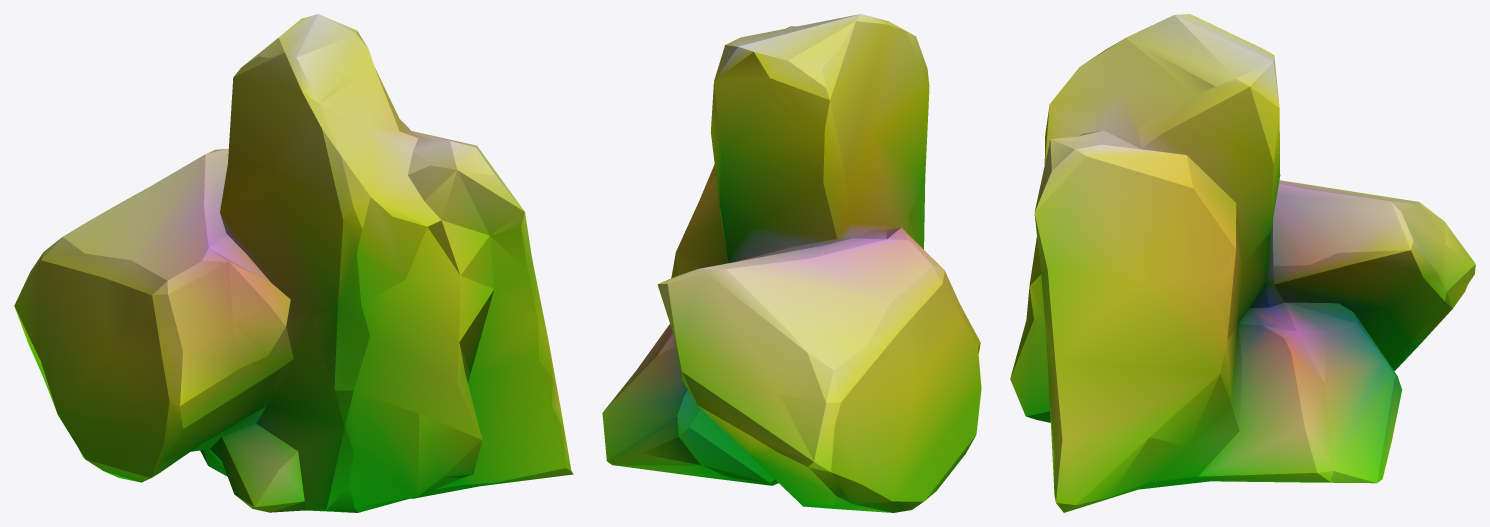
The model's file is rock_group_01_LOD1.fbx.
3 renders of one model, left to right at view 1: azimuth 30°, elevation 25°; view 2: azimuth 150°, elevation 25°; view 3: azimuth 270°, elevation 25°, orthographic. The views are drawn at different scales.
Parts seen in each view (by area): view 1: LOD1; view 2: LOD1; view 3: LOD1.
Part boxes in pixels (x1,y1,x2,y2): LOD1: (14,14,573,512); LOD1: (602,14,981,512); LOD1: (1010,14,1475,512).
Size of the model in its own units: 37837 by 43356 by 45839.
